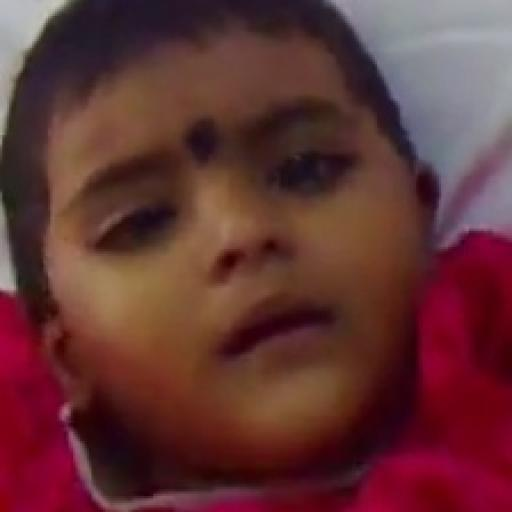Autism: (21, 36, 459, 512)
